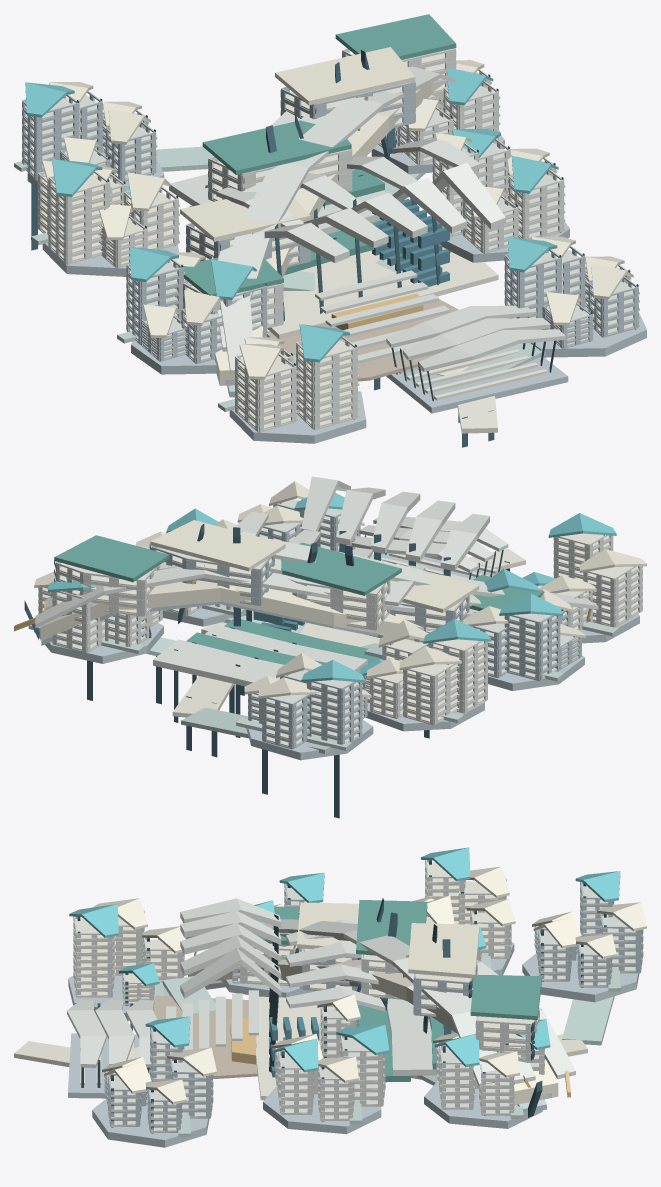
The model's file is J7R9_TENNU_URBAN_SEAM.glb.
3 renders of one model, top to bottom at view 1: azimuth 30°, elevation 25°; view 2: azimuth 150°, elevation 25°; view 3: azimuth 270°, elevation 25°, orthographic. The views are drawn at different scales.
Visible parts, largest first — view 1: CIVIC_KEEL_SKYLIGHT_ROOF_SLICE_0, ARCHIVE_PUBLIC_READING_HALL_FLOOR, UPPER_SPINE_CITY_SKYGARDEN_4, UPPER_SPINE_CITY_SKYGARDEN_3, TRANSIT_MAIN_INTERCHANGE_FLOOR, WEST_SOUTH_HOUSE_3_PERFORATED_OCCUPIED_ENVELOPE, UPPER_SPINE_CITY_SKYGARDEN_5, CIVIC_SEAM_MEGACITY_UPPER_LIVED_IN_KEEL, WEST_NORTH_HOUSE_3_PERFORATED_OCCUPIED_ENVELOPE, WEST_SOUTH_HOUSE_2_PERFORATED_OCCUPIED_ENVELOPE, UPPER_SPINE_CITY_SKYGARDEN_2, ASSEMBLY_REAL_FLOOR (+75 smaller); view 2: CIVIC_SEAM_MEGACITY_UPPER_LIVED_IN_KEEL, UPPER_SPINE_CITY_SKYGARDEN_4, URBAN_TERRACE_GARDEN_3, CIVIC_KEEL_SKYLIGHT_ROOF_SLICE_2, UPPER_SPINE_CITY_SKYGARDEN_3, UPPER_SPINE_CITY_SKYGARDEN_5, WEST_MID_HOUSE_2_PERFORATED_OCCUPIED_ENVELOPE, NORTH_PUBLIC_HOUSE_2_PERFORATED_OCCUPIED_ENVELOPE, WEST_NORTH_HOUSE_2_PERFORATED_OCCUPIED_ENVELOPE, WEST_SOUTH_HOUSE_2_PERFORATED_OCCUPIED_ENVELOPE, CIVIC_KEEL_SKYLIGHT_ROOF_SLICE_0, URBAN_TERRACE_GARDEN_1 (+53 smaller); view 3: CIVIC_KEEL_SKYLIGHT_ROOF_SLICE_0, UPPER_SPINE_CITY_SKYGARDEN_4, UPPER_SPINE_CITY_SKYGARDEN_5, CIVIC_SEAM_MEGACITY_UPPER_LIVED_IN_KEEL, URBAN_TERRACE_GARDEN_1, ARCHIVE_PUBLIC_READING_HALL_FLOOR, UPPER_SPINE_CITY_SKYGARDEN_3, ASSEMBLY_REAL_FLOOR, EAST_TRANSIT_URBAN_CITY_PODIUM, NORTH_PUBLIC_URBAN_CITY_PODIUM, EAST_PUBLIC_URBAN_CITY_PODIUM, B_BRANCH_STREET_WEST_NORTH (+72 smaller).
Part boxes in pixels (box(x1,y1,x2,y2)): CIVIC_KEEL_SKYLIGHT_ROOF_SLICE_0: box(219, 66, 487, 374); ARCHIVE_PUBLIC_READING_HALL_FLOOR: box(267, 250, 498, 339); UPPER_SPINE_CITY_SKYGARDEN_4: box(275, 47, 415, 105); UPPER_SPINE_CITY_SKYGARDEN_3: box(202, 120, 351, 174); TRANSIT_MAIN_INTERCHANGE_FLOOR: box(386, 356, 568, 413); WEST_SOUTH_HOUSE_3_PERFORATED_OCCUPIED_ENVELOPE: box(296, 336, 357, 429); UPPER_SPINE_CITY_SKYGARDEN_5: box(335, 14, 456, 59); CIVIC_SEAM_MEGACITY_UPPER_LIVED_IN_KEEL: box(214, 82, 443, 385); WEST_NORTH_HOUSE_3_PERFORATED_OCCUPIED_ENVELOPE: box(48, 171, 110, 264); WEST_SOUTH_HOUSE_2_PERFORATED_OCCUPIED_ENVELOPE: box(235, 353, 296, 432); UPPER_SPINE_CITY_SKYGARDEN_2: box(180, 197, 310, 241); ASSEMBLY_REAL_FLOOR: box(267, 299, 458, 381); CIVIC_SEAM_MEGACITY_UPPER_LIVED_IN_KEEL: box(40, 580, 436, 641); UPPER_SPINE_CITY_SKYGARDEN_4: box(150, 520, 285, 571); URBAN_TERRACE_GARDEN_3: box(153, 639, 308, 686); CIVIC_KEEL_SKYLIGHT_ROOF_SLICE_2: box(35, 566, 478, 628); UPPER_SPINE_CITY_SKYGARDEN_3: box(281, 542, 401, 595); UPPER_SPINE_CITY_SKYGARDEN_5: box(54, 535, 169, 582); WEST_MID_HOUSE_2_PERFORATED_OCCUPIED_ENVELOPE: box(504, 615, 560, 681); NORTH_PUBLIC_HOUSE_2_PERFORATED_OCCUPIED_ENVELOPE: box(306, 681, 362, 744); WEST_NORTH_HOUSE_2_PERFORATED_OCCUPIED_ENVELOPE: box(403, 664, 459, 725); WEST_SOUTH_HOUSE_2_PERFORATED_OCCUPIED_ENVELOPE: box(583, 566, 642, 627); CIVIC_KEEL_SKYLIGHT_ROOF_SLICE_0: box(141, 536, 598, 609); URBAN_TERRACE_GARDEN_1: box(205, 624, 367, 672); CIVIC_KEEL_SKYLIGHT_ROOF_SLICE_0: box(158, 919, 496, 1087); UPPER_SPINE_CITY_SKYGARDEN_4: box(408, 923, 479, 978); UPPER_SPINE_CITY_SKYGARDEN_5: box(470, 974, 541, 1019); CIVIC_SEAM_MEGACITY_UPPER_LIVED_IN_KEEL: box(188, 951, 558, 1105); URBAN_TERRACE_GARDEN_1: box(386, 998, 436, 1075); ARCHIVE_PUBLIC_READING_HALL_FLOOR: box(256, 996, 334, 1100); UPPER_SPINE_CITY_SKYGARDEN_3: box(356, 899, 427, 955); ASSEMBLY_REAL_FLOOR: box(149, 995, 257, 1078); EAST_TRANSIT_URBAN_CITY_PODIUM: box(92, 1099, 209, 1147); NORTH_PUBLIC_URBAN_CITY_PODIUM: box(522, 950, 639, 1002); EAST_PUBLIC_URBAN_CITY_PODIUM: box(263, 1086, 381, 1134); B_BRANCH_STREET_WEST_NORTH: box(562, 996, 614, 1045).
Bounding box in the file's own units: 2200 × 906 × 2790.
